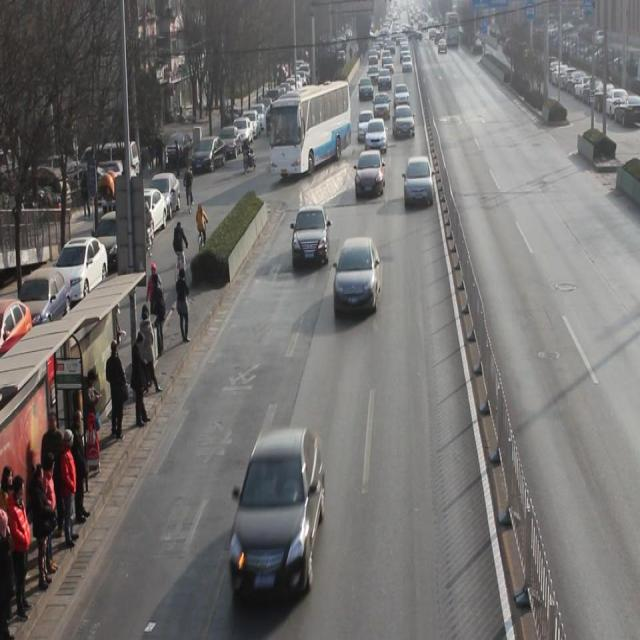car: (228, 427, 325, 604), (333, 236, 380, 315), (292, 205, 329, 269), (403, 155, 434, 208), (354, 149, 385, 198), (392, 104, 415, 139), (366, 115, 386, 154), (356, 110, 376, 142)
van: (270, 80, 350, 176)
